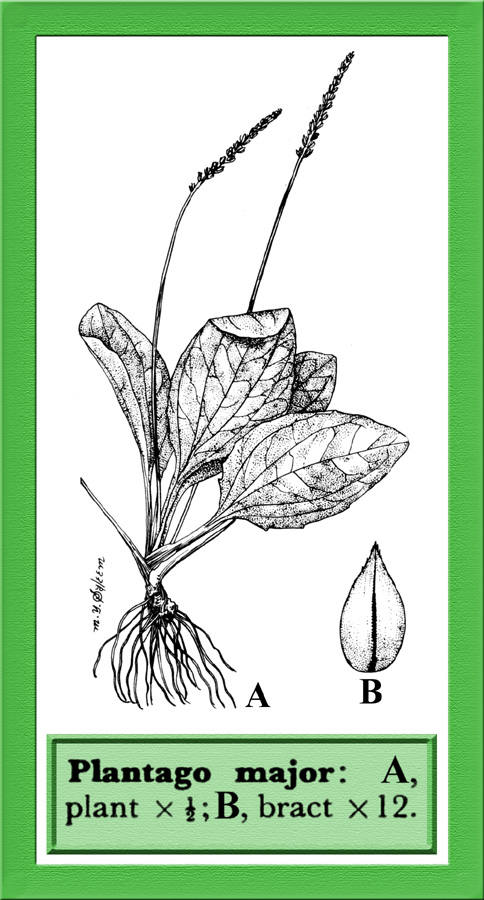buckhorn plantain: (97, 48, 407, 578)
